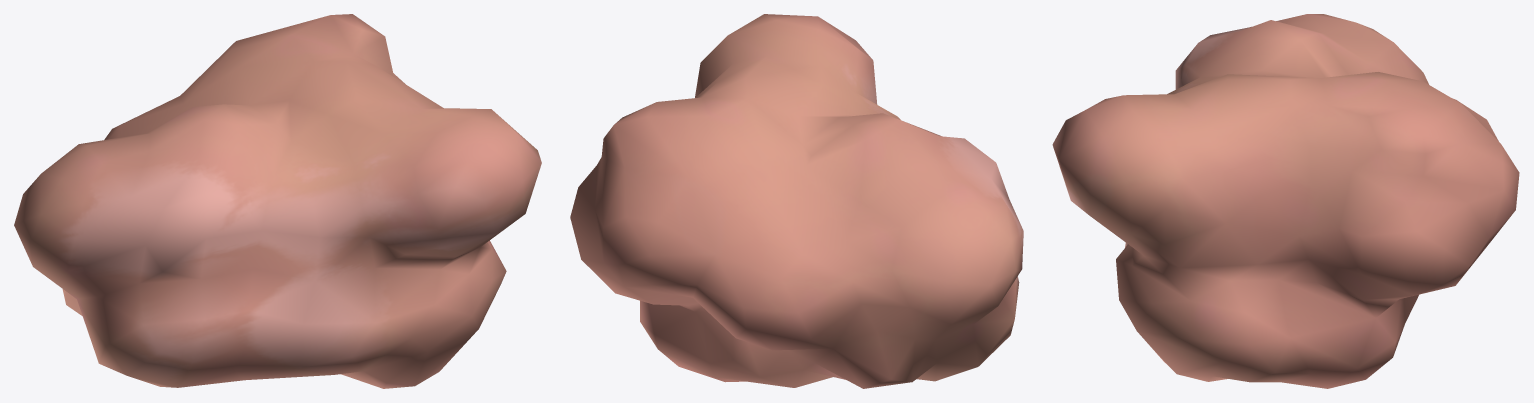
Rendered from cloud1.glb.
The picture shows the model from 3 angles, left to right: view 1: azimuth 30°, elevation 25°; view 2: azimuth 150°, elevation 25°; view 3: azimuth 270°, elevation 25°; orthographic projection. The views are drawn at different scales.
Parts seen in each view (by area): view 1: cloud; view 2: cloud; view 3: cloud.
Boxes of the visible parts, bbox=[...] form: cloud: bbox=[14, 14, 541, 388]; cloud: bbox=[570, 14, 1023, 388]; cloud: bbox=[1052, 14, 1519, 388].
Bounding box in the file's own units: 30.02 × 20.11 × 28.56.
1 material, 1 textured.
